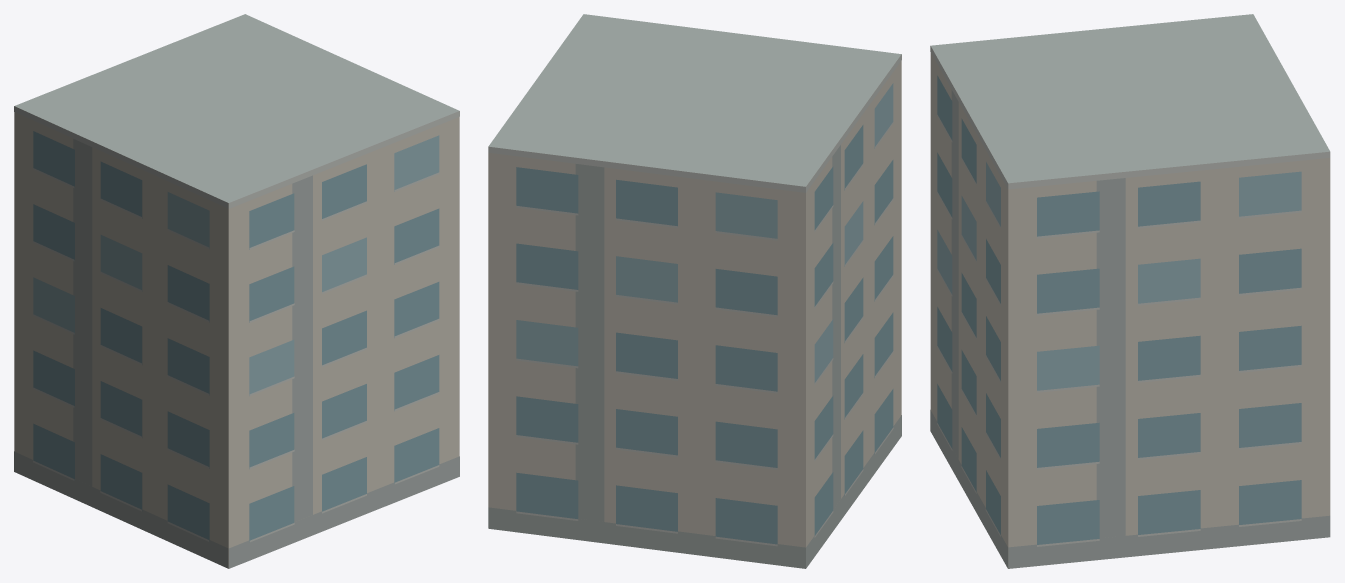
Rendered from survey-upis-32775525.glb.
3 views of the same model, side by side, from view 1: azimuth 30°, elevation 25°; view 2: azimuth 150°, elevation 25°; view 3: azimuth 270°, elevation 25° (orthographic). The views are drawn at different scales.
Parts seen in each view (by area): view 1: survey-upis-32775525.tmp; view 2: survey-upis-32775525.tmp; view 3: survey-upis-32775525.tmp.
Boxes of the visible parts, x1,y1,x2,y2 form: survey-upis-32775525.tmp: (14,14,459,568); survey-upis-32775525.tmp: (488,14,901,568); survey-upis-32775525.tmp: (930,14,1330,568).
Size of the model in its own units: 14.37 by 15.25 by 14.34.
